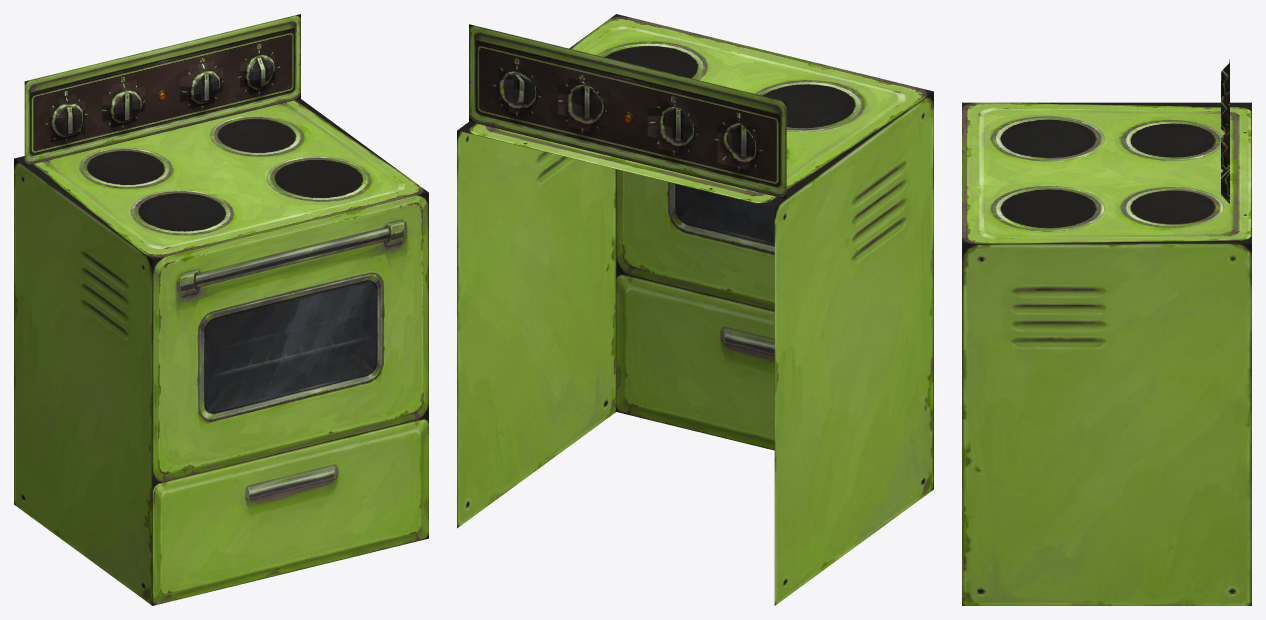
The model's file is stress_b_v1_avocado.glb.
3 renders of one model, left to right at view 1: azimuth 30°, elevation 25°; view 2: azimuth 150°, elevation 25°; view 3: azimuth 270°, elevation 25°, orthographic. The views are drawn at different scales.
Visible parts, largest first — view 1: stress_b_v1_avocado_front_door, stress_b_v1_avocado_left, stress_b_v1_avocado_cooktop, stress_b_v1_avocado_front_drawer, stress_b_v1_avocado_backguard; view 2: stress_b_v1_avocado_left, stress_b_v1_avocado_right, stress_b_v1_avocado_backguard, stress_b_v1_avocado_cooktop, stress_b_v1_avocado_front_drawer, stress_b_v1_avocado_front_door; view 3: stress_b_v1_avocado_right, stress_b_v1_avocado_cooktop, stress_b_v1_avocado_backguard.
Part boxes in pixels (x1,y1,x2,y2): stress_b_v1_avocado_front_door: [152, 192, 428, 484]; stress_b_v1_avocado_left: [14, 158, 152, 605]; stress_b_v1_avocado_cooktop: [14, 99, 428, 259]; stress_b_v1_avocado_front_drawer: [152, 417, 428, 605]; stress_b_v1_avocado_backguard: [24, 14, 300, 165]; stress_b_v1_avocado_left: [774, 91, 933, 605]; stress_b_v1_avocado_right: [457, 130, 616, 528]; stress_b_v1_avocado_backguard: [469, 24, 786, 198]; stress_b_v1_avocado_cooktop: [457, 14, 933, 207]; stress_b_v1_avocado_front_drawer: [616, 272, 774, 450]; stress_b_v1_avocado_front_door: [616, 169, 774, 310]; stress_b_v1_avocado_right: [962, 243, 1251, 605]; stress_b_v1_avocado_cooktop: [962, 102, 1251, 243]; stress_b_v1_avocado_backguard: [1221, 59, 1229, 203].
Bounding box in the file's own units: 0.76 × 1.13 × 0.66.
1 material, 1 textured.
